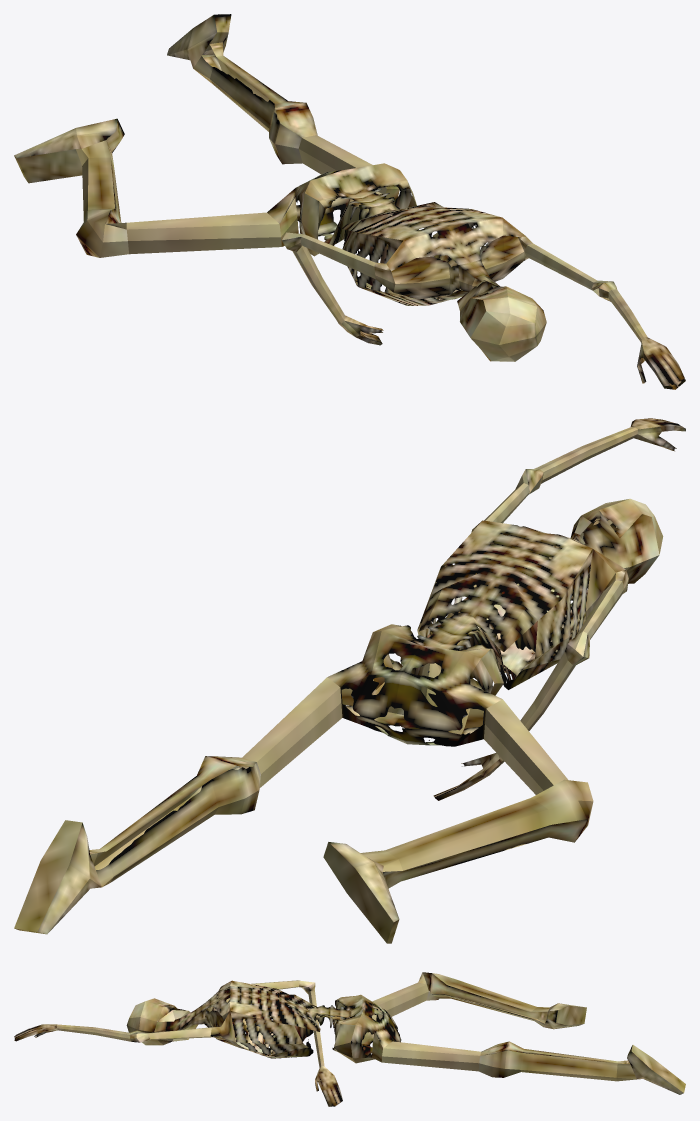
The model's file is Skeleton Lying.fbx.
3 views of the same model, one above another, from view 1: azimuth 30°, elevation 25°; view 2: azimuth 150°, elevation 25°; view 3: azimuth 270°, elevation 25° (orthographic). The views are drawn at different scales.
Visible parts, largest first — view 1: PSX_Skeleton_Army; view 2: PSX_Skeleton_Army; view 3: PSX_Skeleton_Army.
Boxes of the visible parts, x1,y1,x2,y2 form: PSX_Skeleton_Army: (14,14,685,389); PSX_Skeleton_Army: (14,418,685,943); PSX_Skeleton_Army: (14,972,685,1106).
Bounding box in the file's own units: 85.76 × 46.45 × 253.
